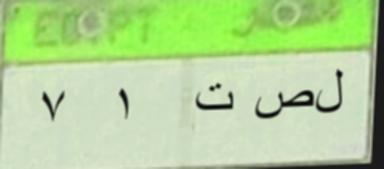1: (106, 78, 139, 125)
7: (32, 86, 74, 127)
laam: (314, 68, 354, 119)
saad: (254, 82, 314, 130)
taa: (190, 78, 238, 115)
